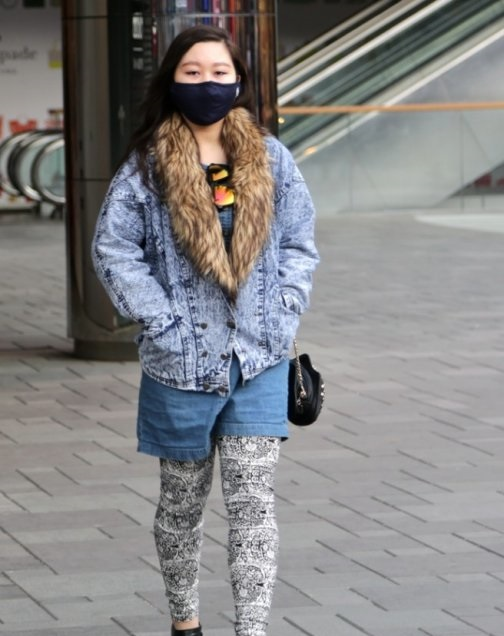face_mask: (173, 41, 235, 125)
